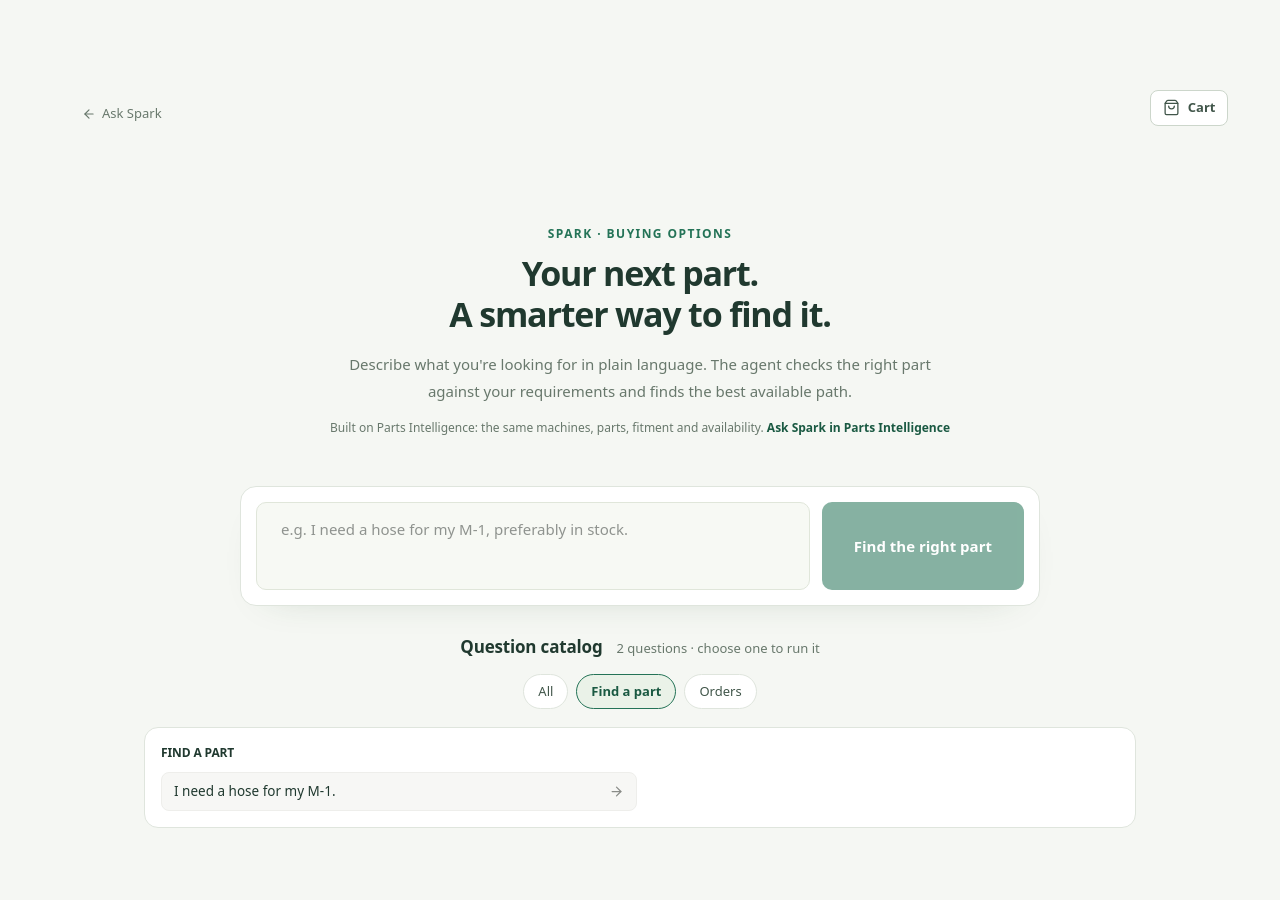
Test: agentic shopping › runs a catalog question directly when it is chosen
The image size is (1280, 900).
Click the button "I need a hose for my M-1.".
click(255, 791)  # box [161,772,637,811]
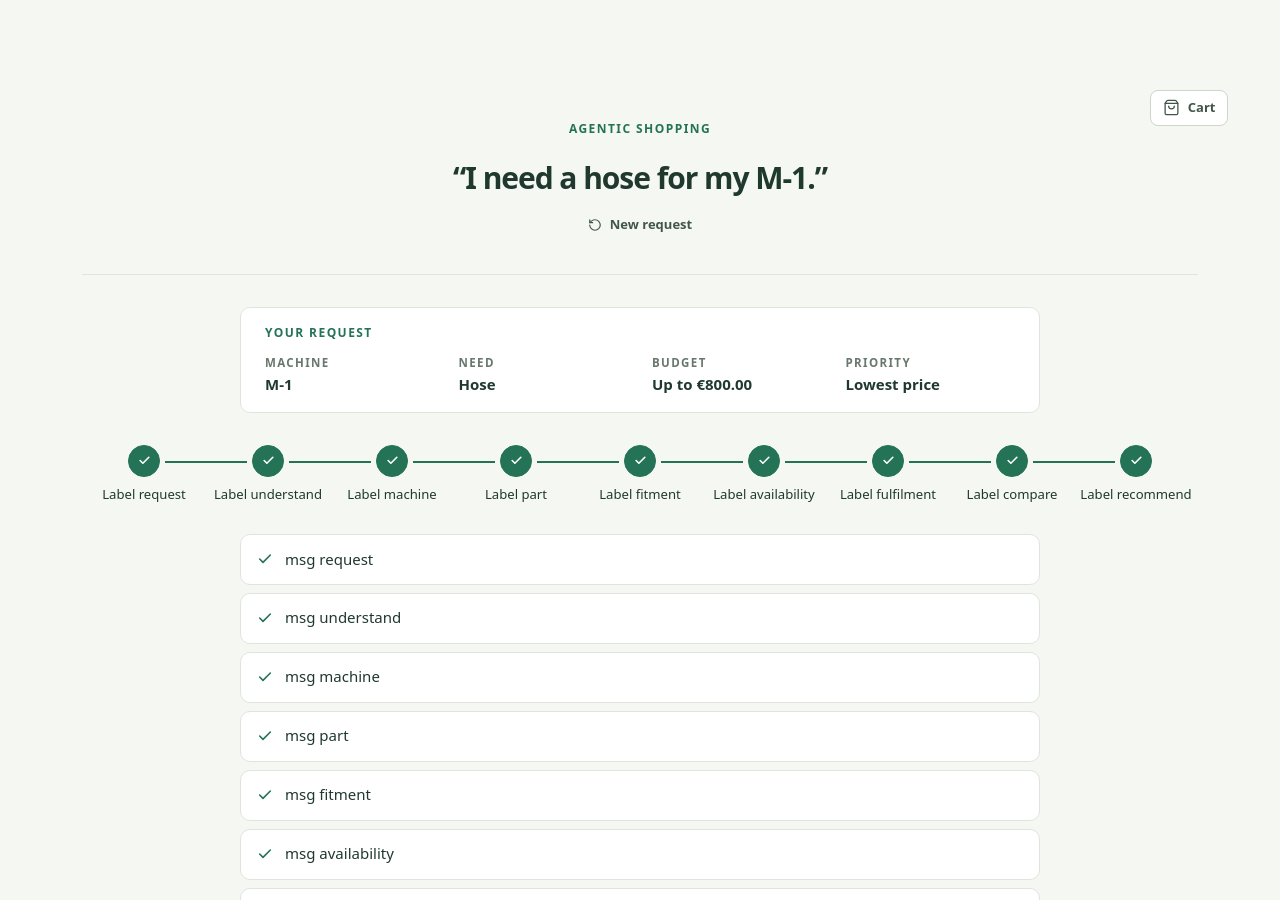
expect the heading "“I need a hose for my M-1.”" is shown: met, box [453,160,827,196]
